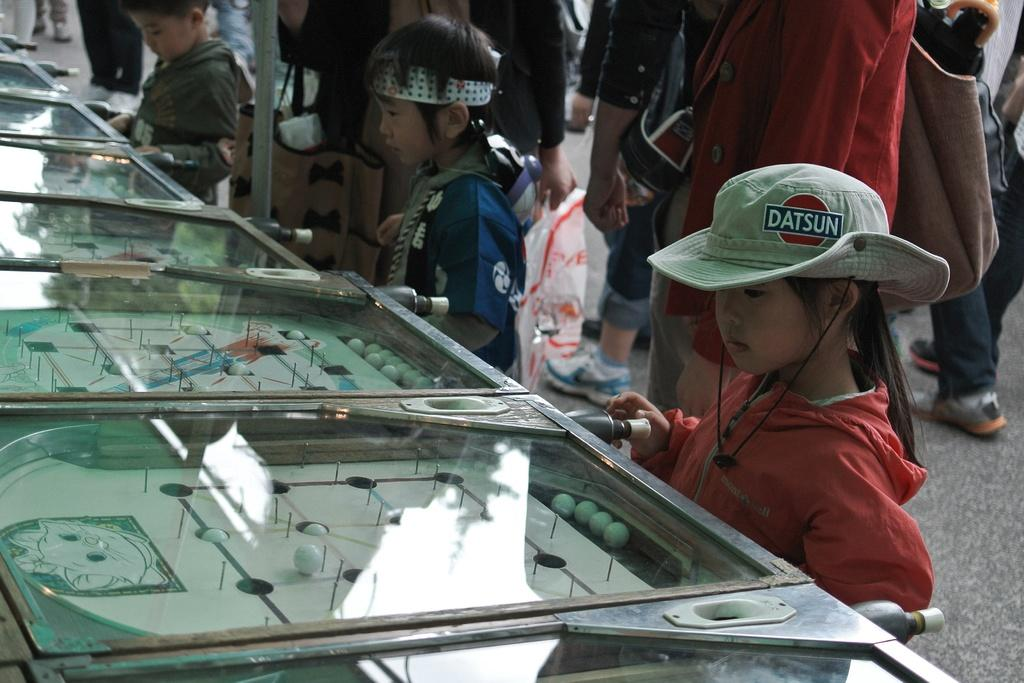Hat: (649, 160, 954, 470)
